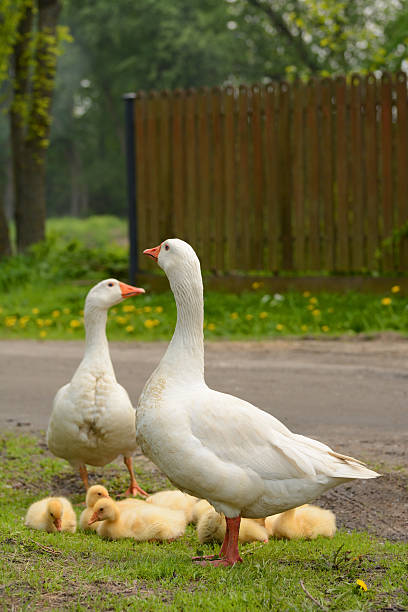goose: (133, 233, 388, 575), (35, 273, 148, 507)
